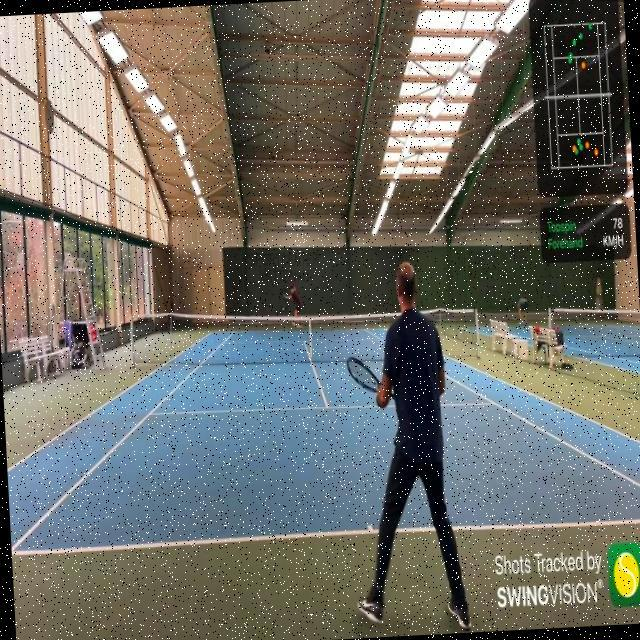court: (1, 309, 640, 558)
net: (128, 294, 482, 376)
player: (340, 261, 474, 638)
